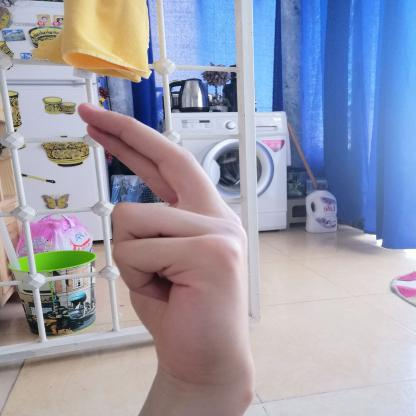ZAY: (61, 92, 268, 399)
